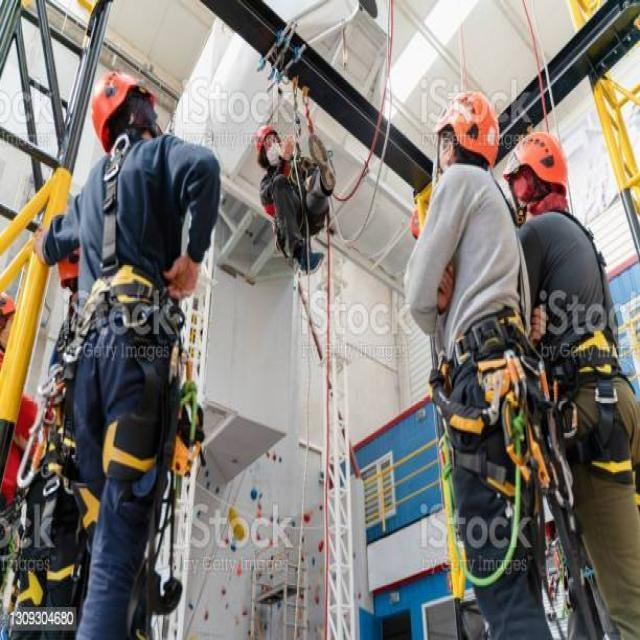Arnes_seguridad: (55, 129, 192, 561), (410, 163, 549, 571), (510, 200, 640, 494), (262, 149, 338, 281)
